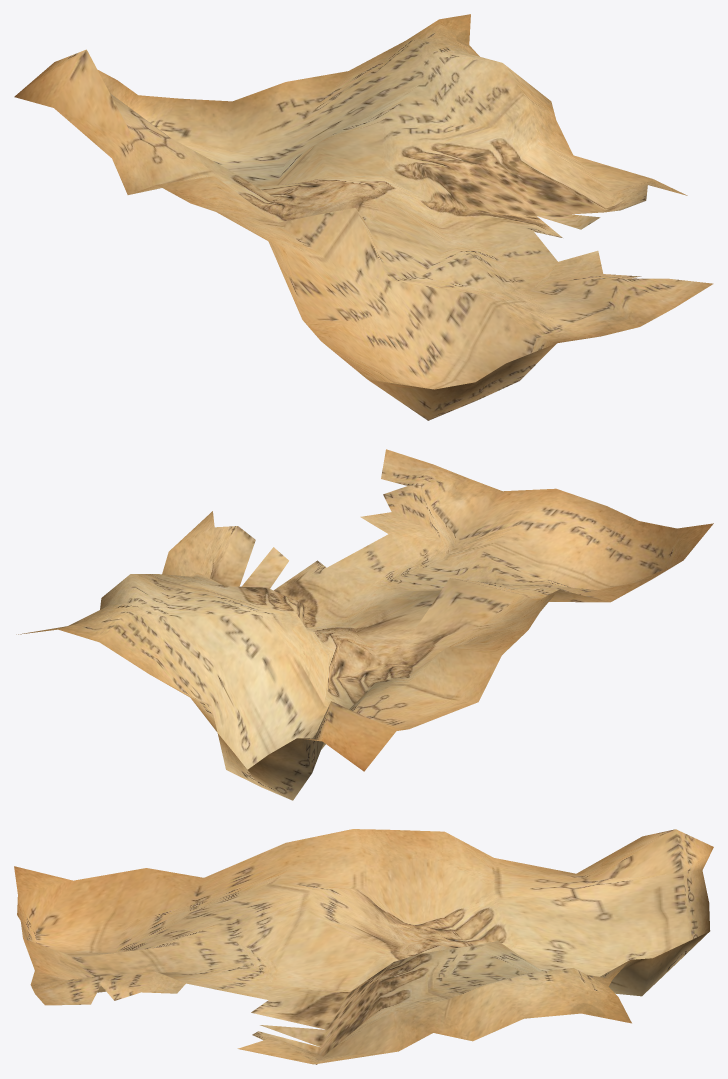
File: SN_Research_Paper.002.fbx
3 renders of one model, top to bottom at view 1: azimuth 30°, elevation 25°; view 2: azimuth 150°, elevation 25°; view 3: azimuth 270°, elevation 25°, orthographic. The views are drawn at different scales.
Parts seen in each view (by area): view 1: SN_Research_Paper.002; view 2: SN_Research_Paper.002; view 3: SN_Research_Paper.002.
Boxes of the visible parts, <box> form: SN_Research_Paper.002: <box>14,14,713,420</box>; SN_Research_Paper.002: <box>16,449,713,800</box>; SN_Research_Paper.002: <box>14,829,713,1064</box>.
Bounding box in the file's own units: 0.1966 × 0.052 × 0.3032.
